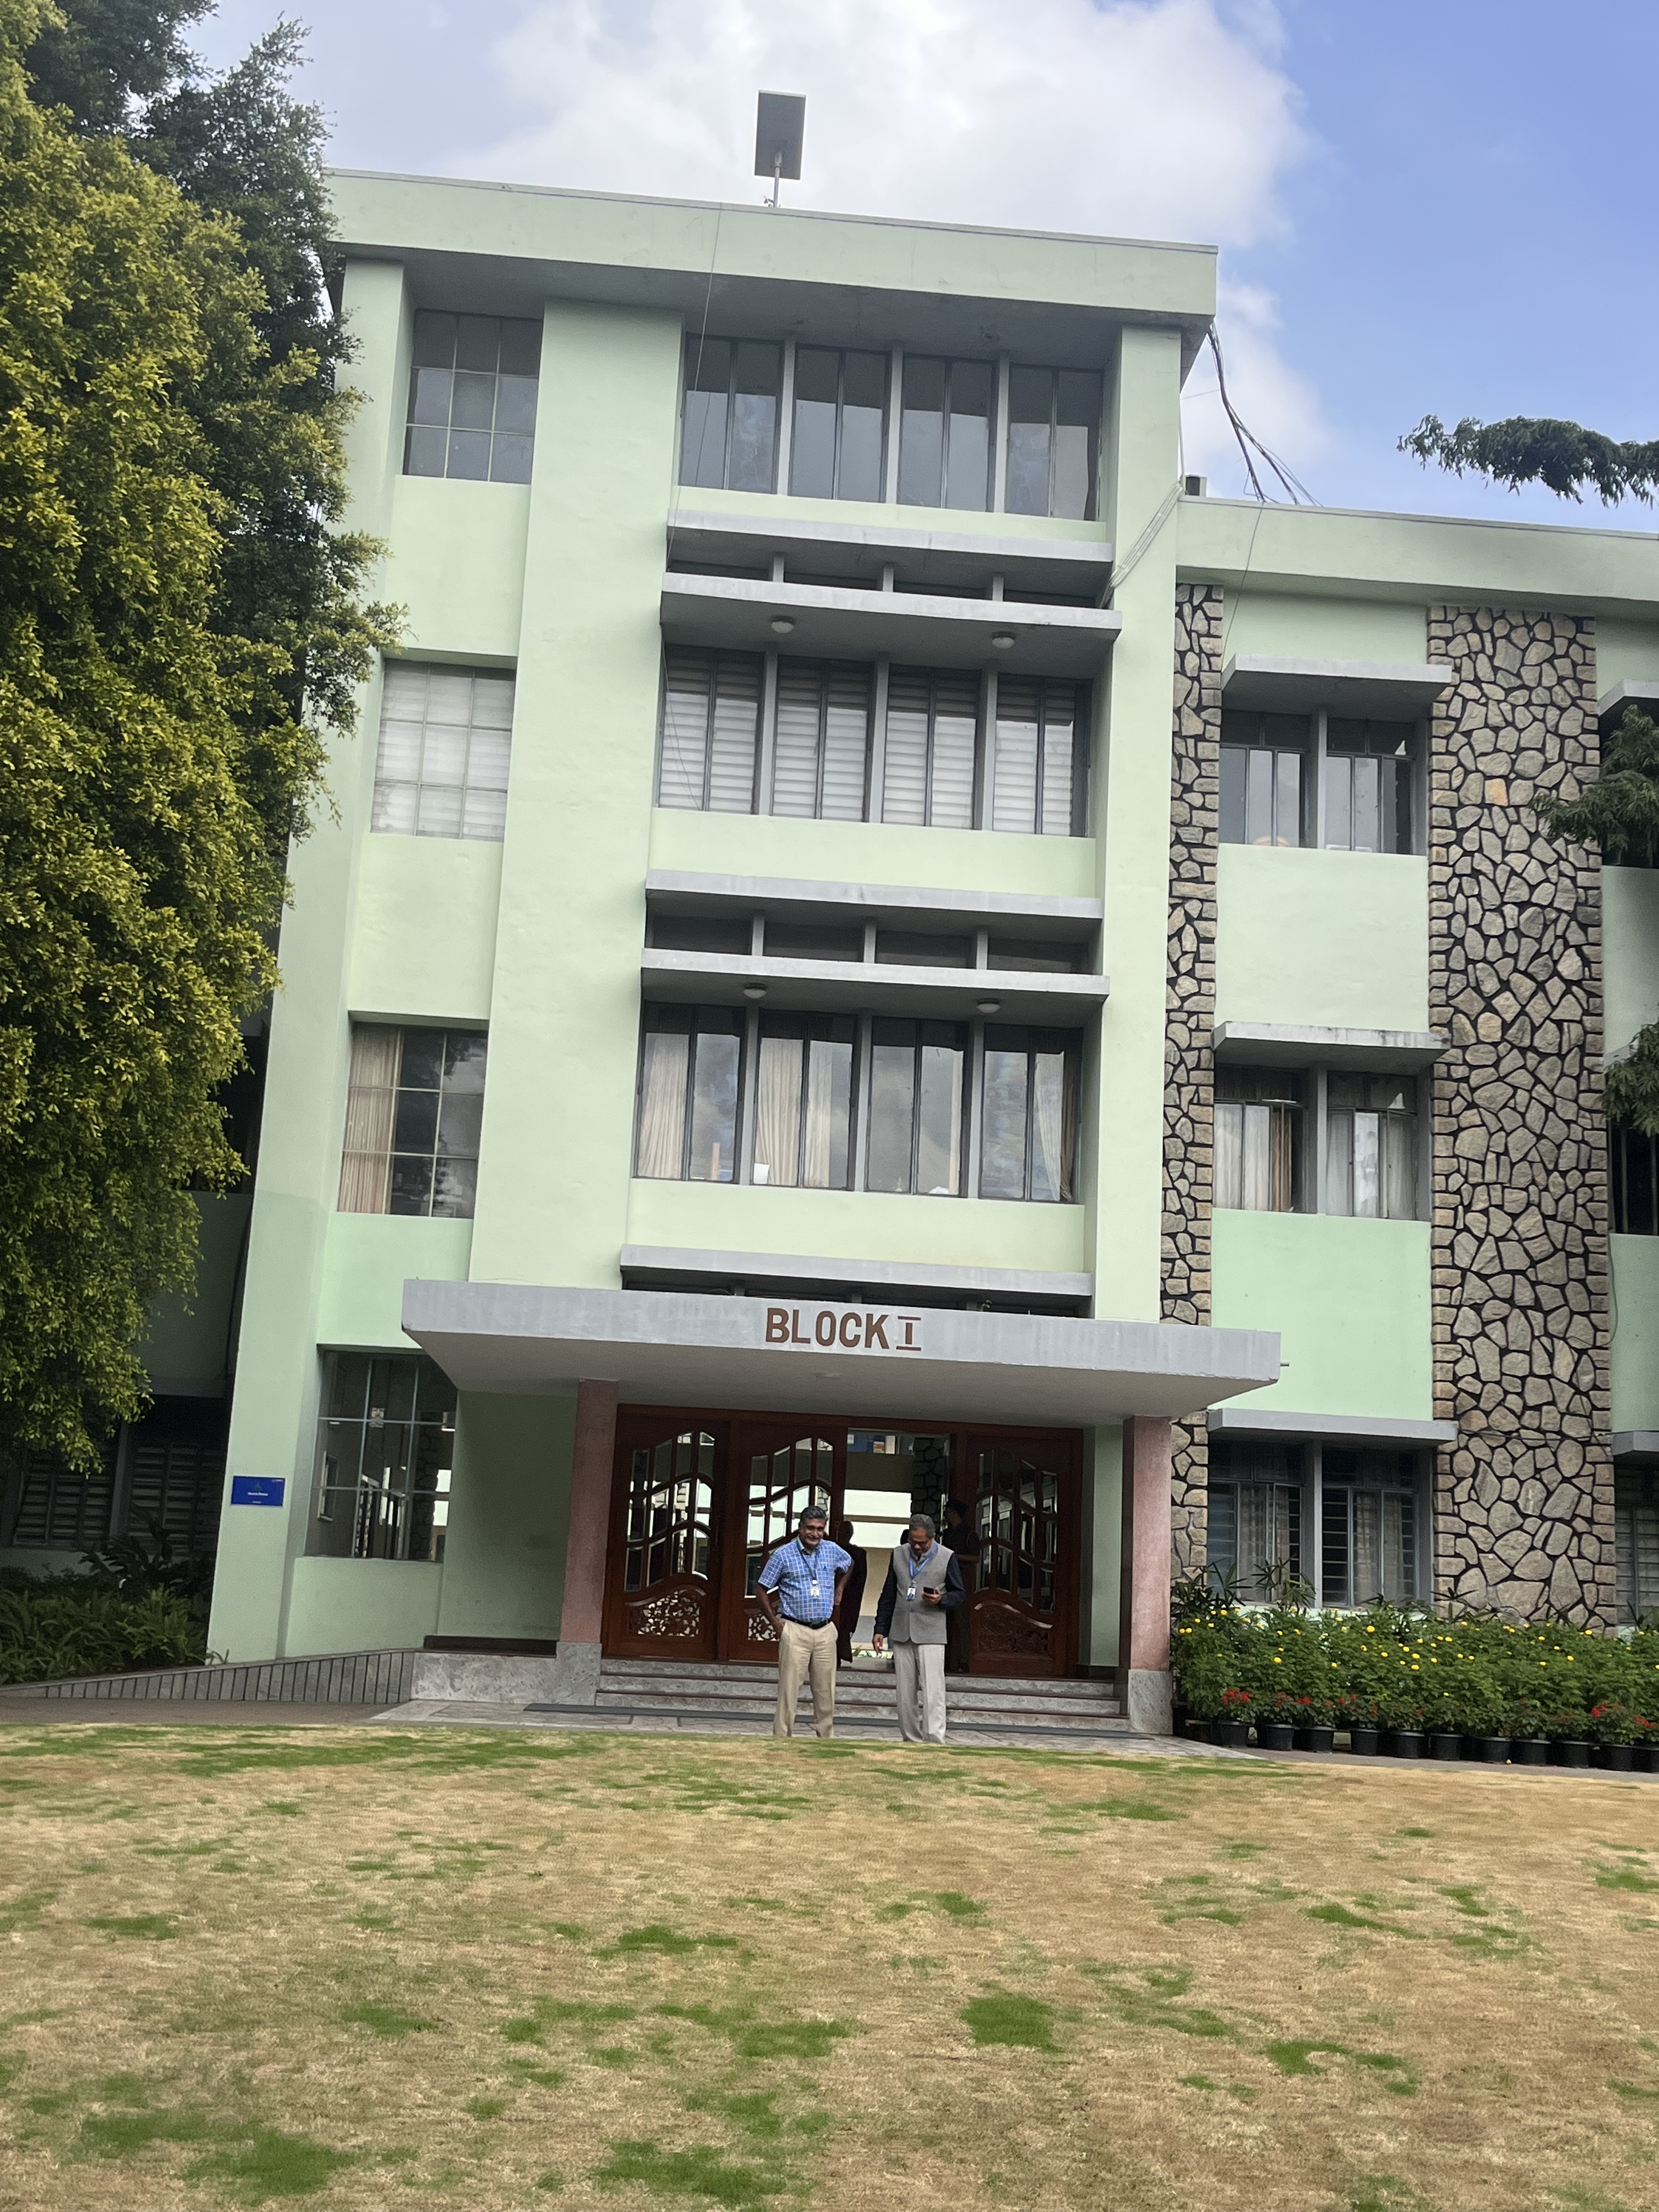Block 1: (281, 94, 1659, 1757)
